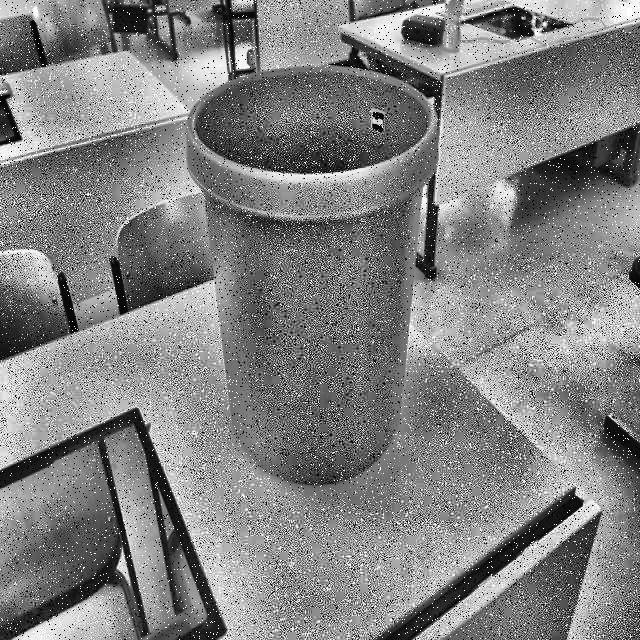Dustbin: (179, 52, 453, 498)
